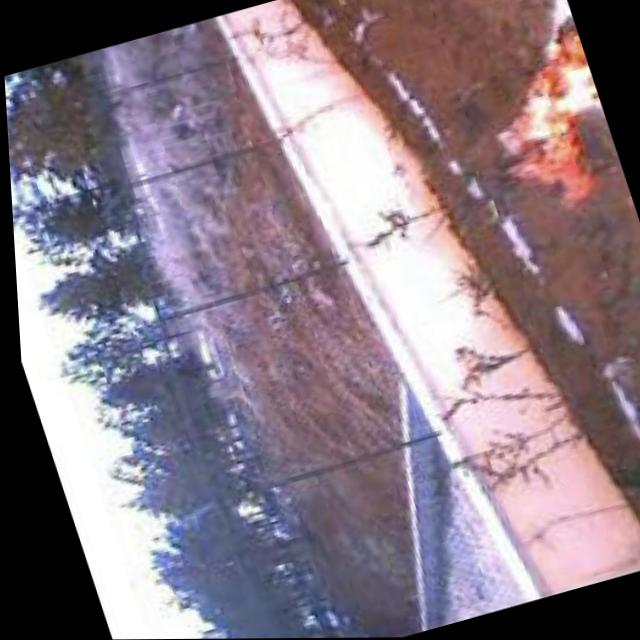Fire: (462, 16, 628, 222)
